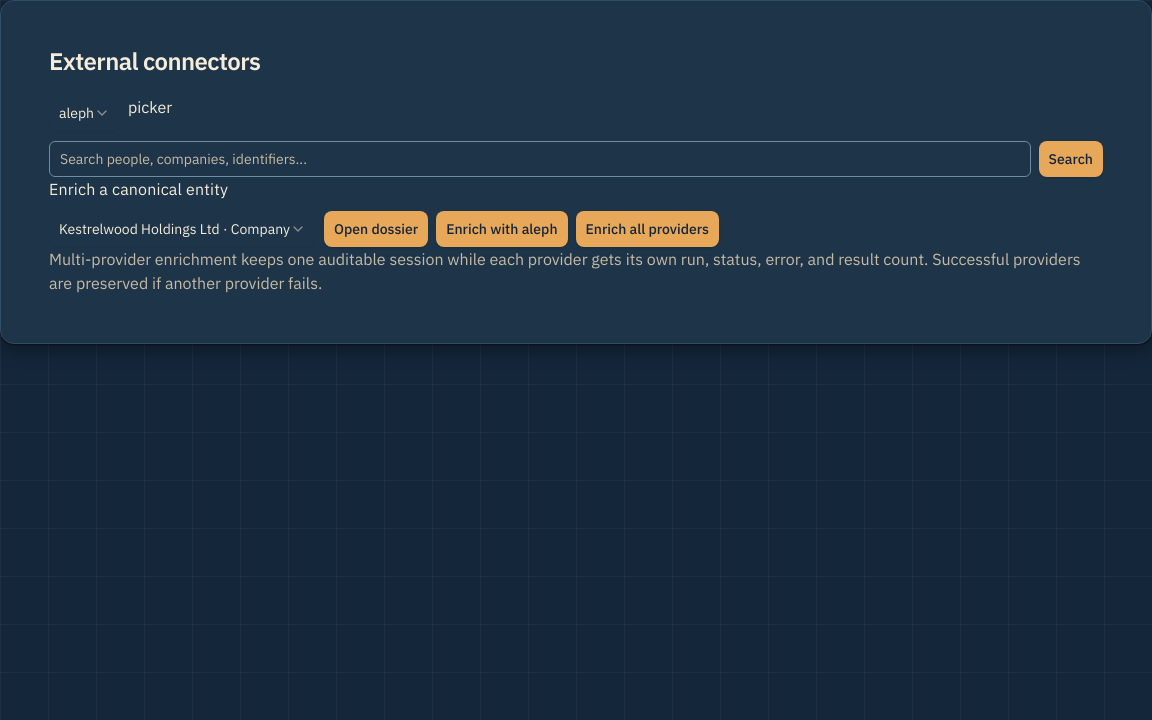
ConnectorsPanel › opens the selected entity's dossier through the shared store
This screenshot has width=1152, height=720.
Click the button "Open dossier": (376, 229) x1=324 y1=211 x2=428 y2=247
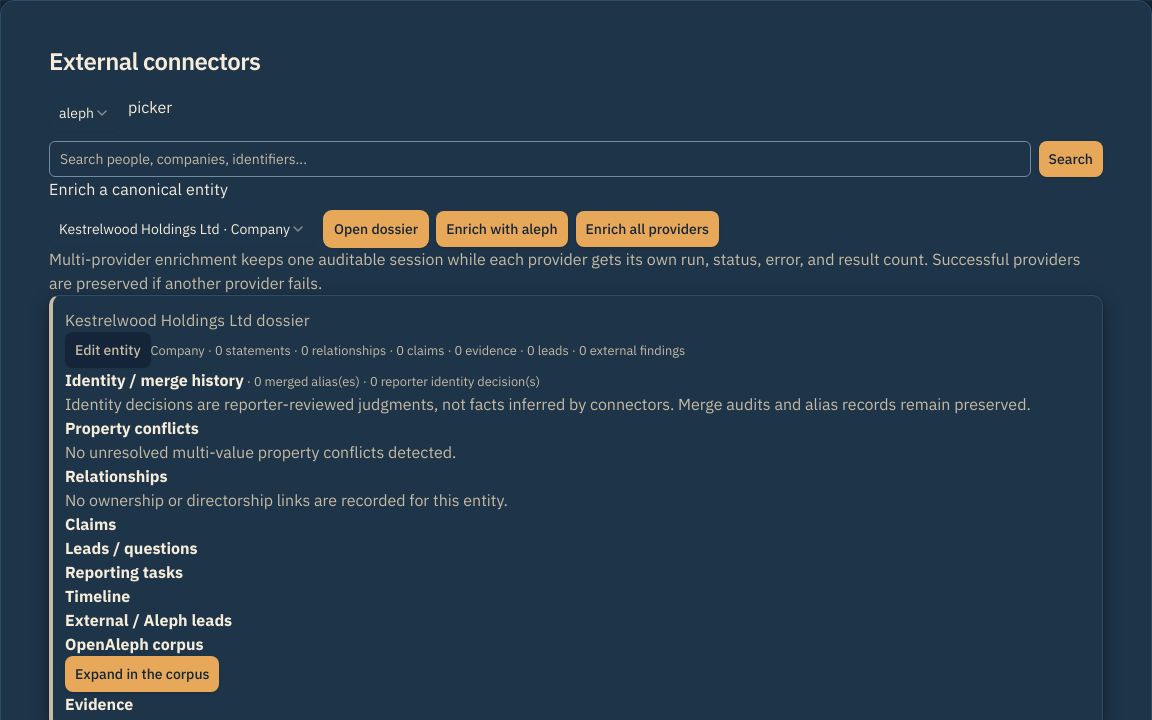
Expected: the heading "Kestrelwood Holdings Ltd dossier" is shown, x1=65 y1=310 x2=310 y2=330
